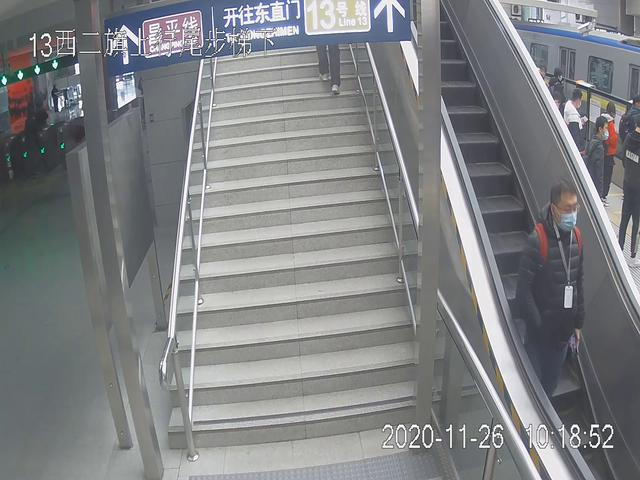person: (514, 176, 591, 405)
